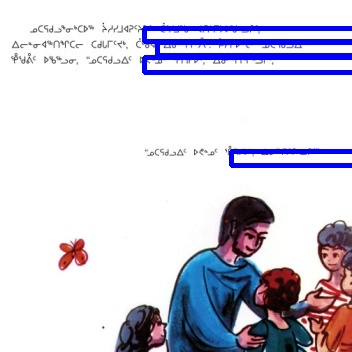inuktitut: (10, 50, 279, 65), (10, 36, 305, 49), (27, 22, 262, 35), (142, 144, 320, 158)
